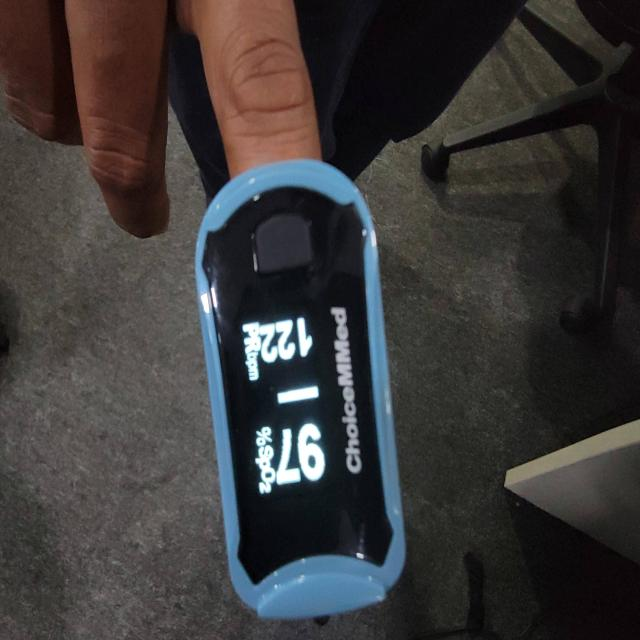spo2: (193, 160, 408, 622)
